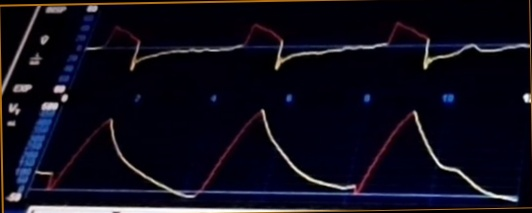Ineffective_effort Flow: (86, 16, 527, 83)
Ineffective_effort Volume: (36, 108, 515, 201)
